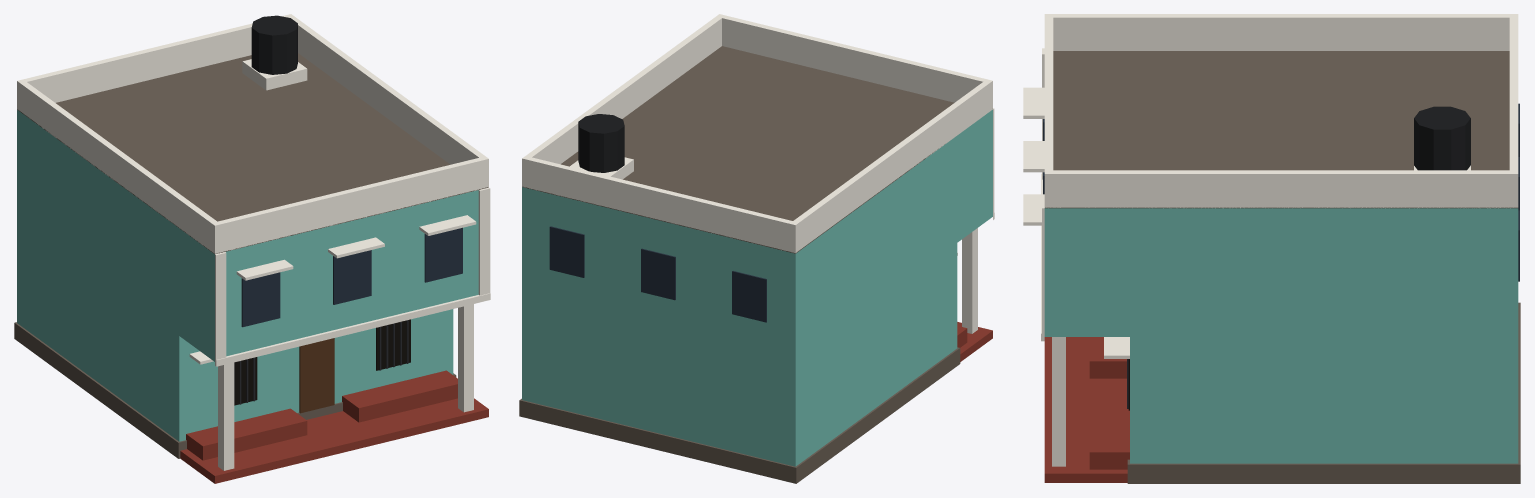
File: bld_ot_house_07.glb
3 views of the same model, side by side, from view 1: azimuth 30°, elevation 25°; view 2: azimuth 150°, elevation 25°; view 3: azimuth 270°, elevation 25° (orthographic). The views are drawn at different scales.
Parts seen in each view (by area): view 1: bld_ot_house_07; view 2: bld_ot_house_07; view 3: bld_ot_house_07.
Part boxes in pixels (bbox=[...]): bld_ot_house_07: bbox=[14, 14, 490, 483]; bld_ot_house_07: bbox=[519, 14, 994, 483]; bld_ot_house_07: bbox=[1023, 14, 1520, 483].
Size of what is drawn, in the model's own units: 8.1 by 7.85 by 10.5.
